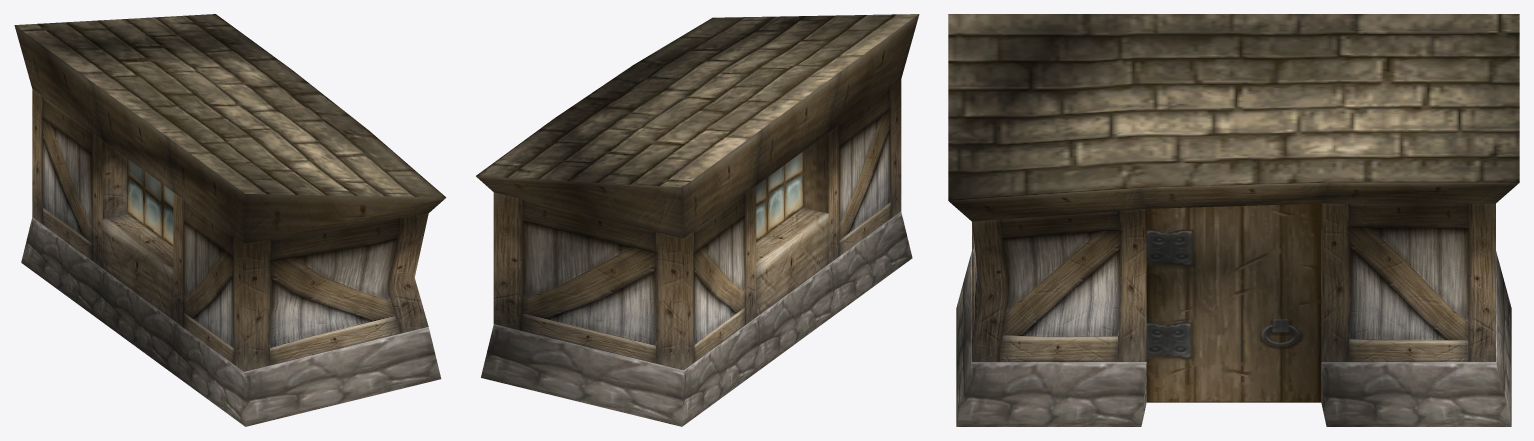
File: westfallshed.obj
3 renders of one model, left to right at view 1: azimuth 30°, elevation 25°; view 2: azimuth 150°, elevation 25°; view 3: azimuth 270°, elevation 25°, orthographic. The views are drawn at different scales.
Parts seen in each view (by area): view 1: Geoset0, Geoset1, Geoset3, Geoset4; view 2: Geoset0, Geoset1, Geoset3, Geoset4; view 3: Geoset1, Geoset0, Geoset2, Geoset3.
Boxes of the visible parts, bbox=[...] form: Geoset0: bbox=[14, 25, 445, 371]; Geoset1: bbox=[15, 14, 445, 197]; Geoset3: bbox=[21, 217, 441, 426]; Geoset4: bbox=[127, 158, 173, 246]; Geoset0: bbox=[476, 14, 919, 370]; Geoset1: bbox=[476, 14, 918, 187]; Geoset3: bbox=[481, 211, 912, 426]; Geoset4: bbox=[756, 151, 803, 241]; Geoset1: bbox=[948, 14, 1519, 200]; Geoset0: bbox=[949, 182, 1519, 361]; Geoset2: bbox=[1146, 203, 1321, 402]; Geoset3: bbox=[956, 251, 1511, 426].
Size of the model in its own units: 4.17 by 4.67 by 8.27.
5 materials, 5 textured.
